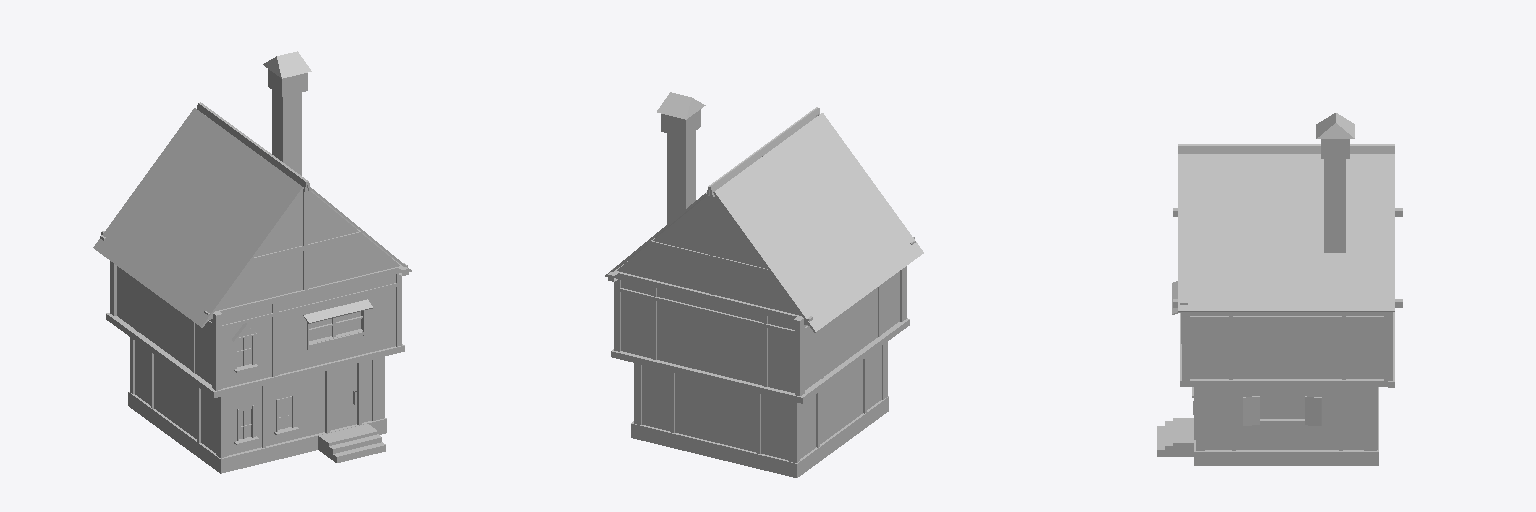
Rendered from house_low.obj.
The picture shows the model from 3 angles: view 1: azimuth 30°, elevation 25°; view 2: azimuth 150°, elevation 25°; view 3: azimuth 270°, elevation 25°; orthographic projection.
Visible parts, largest first — view 1: House_001:group17 House_001:pCube175, House_001:body House_001:pCube70, House_001:body House_001:pCube1, House_001:body House_001:pPrism1, House_001:pCube26 House_001:body, House_001:pCube194, House_001:pCube116, House_001:pCube125, House_001:pCube121, House_001:pCube178 House_001:group17, House_001:body group10 pCube135 group14, House_001:stairs_003 House_001:stairs_001 (+7 smaller); view 2: House_001:group17 House_001:pCube175, House_001:body House_001:pCube70, House_001:body House_001:pCube1, House_001:body House_001:pPrism1, House_001:pCube26 House_001:body, House_001:pCube194, House_001:pCube119, House_001:pCube147, House_001:pCube121, House_001:pCube178 House_001:group17, House_001:pCube118, House_001:pPrism2 (+3 smaller); view 3: House_001:group18 House_001:pCube162, House_001:body House_001:pCube70, House_001:body House_001:pCube1, House_001:pCube26 House_001:body, House_001:pCube194, House_001:pCube120, House_001:pCube178 House_001:group18, House_001:body group10 pCube135 group12, House_001:pPrism2, House_001:pCube122, House_001:stairs_003 House_001:stairs_001, House_001:pCube74 (+2 smaller).
Part boxes in pixels (x1,y1,x2,y2): House_001:group17 House_001:pCube175: (93,108,303,327); House_001:body House_001:pCube70: (117,266,395,388); House_001:body House_001:pCube1: (135,341,371,455); House_001:body House_001:pPrism1: (216,190,399,310); House_001:pCube26 House_001:body: (128,392,386,473); House_001:pCube194: (272,90,301,175); House_001:pCube116: (210,344,404,395); House_001:pCube125: (204,263,407,319); House_001:pCube121: (106,313,220,397); House_001:pCube178 House_001:group17: (197,103,307,192); House_001:body group10 pCube135 group14: (372,357,384,420); House_001:stairs_003 House_001:stairs_001: (318,424,377,456); House_001:group17 House_001:pCube175: (713,113,923,332); House_001:body House_001:pCube70: (621,271,899,392); House_001:body House_001:pCube1: (642,346,881,459); House_001:body House_001:pPrism1: (617,196,801,315); House_001:pCube26 House_001:body: (631,396,888,477); House_001:pCube194: (667,131,695,223); House_001:pCube119: (611,349,806,403); House_001:pCube147: (612,268,812,325); House_001:pCube121: (801,319,909,399); House_001:pCube178 House_001:group17: (709,108,819,197); House_001:pCube118: (620,288,794,334); House_001:pPrism2: (657,92,705,119); House_001:group18 House_001:pCube162: (1178,154,1394,311); House_001:body House_001:pCube70: (1190,312,1383,378); House_001:body House_001:pCube1: (1205,389,1363,449); House_001:pCube26 House_001:body: (1194,387,1378,465); House_001:pCube194: (1324,159,1345,252); House_001:pCube120: (1184,379,1387,386); House_001:pCube178 House_001:group18: (1178,146,1394,153); House_001:body group10 pCube135 group12: (1364,387,1376,450); House_001:pPrism2: (1316,113,1354,138); House_001:pCube122: (1190,316,1383,319); House_001:stairs_003 House_001:stairs_001: (1173,418,1193,449); House_001:pCube74: (1384,312,1392,380).
Size of the model in its own units: 5.34 by 8.09 by 5.38.